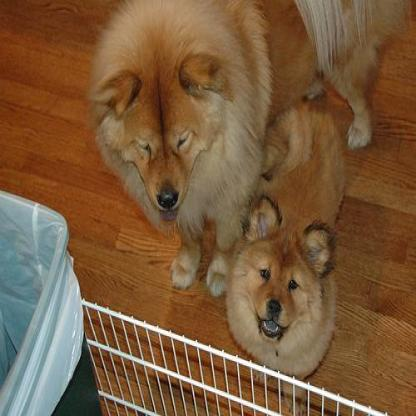chow: (87, 1, 412, 294), (226, 105, 342, 411)
